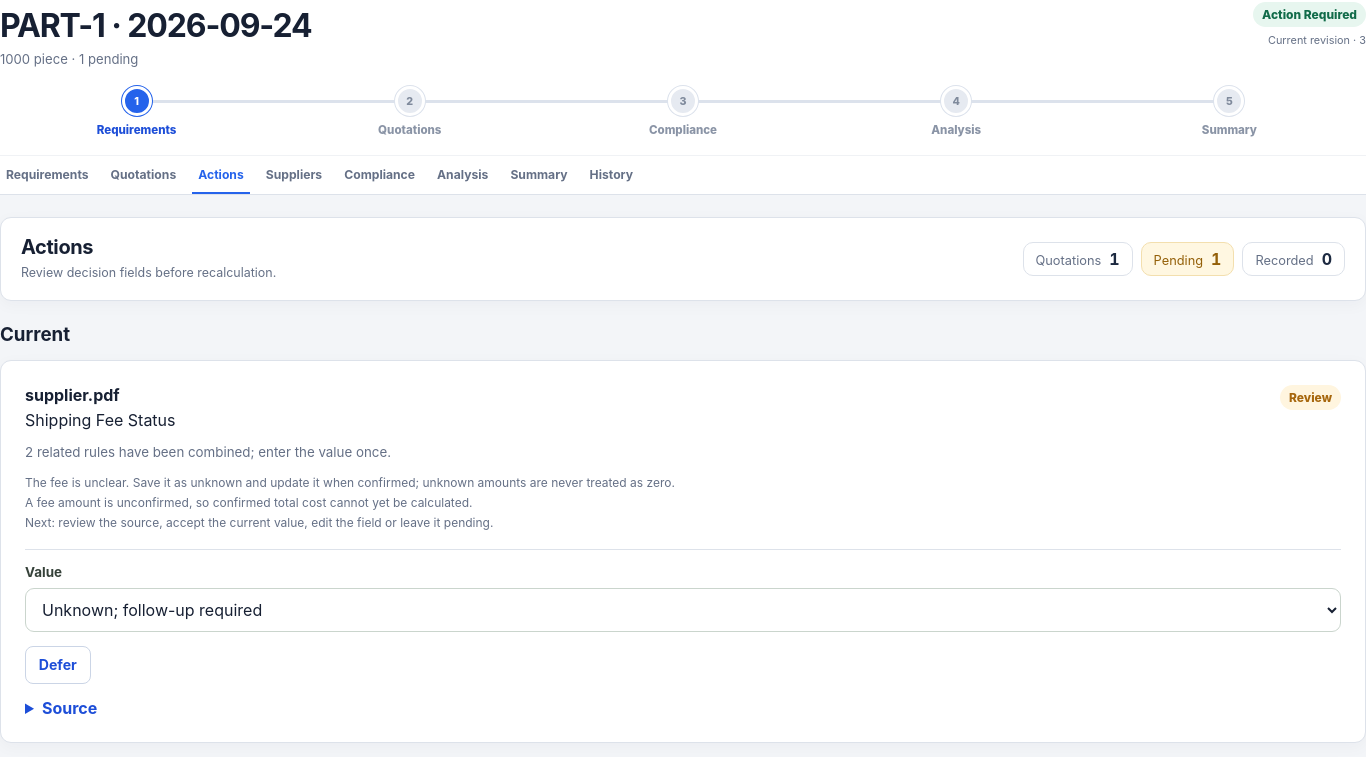
Test: ReviewPage › keeps a deferred field pending and explains an unexpected save failure with a request id
Expected: the dropdown named "Shipping Fee Status value" is shown, [25,588,1341,632]
Click the button "Defer" at (58, 665), box [25,646,91,684]
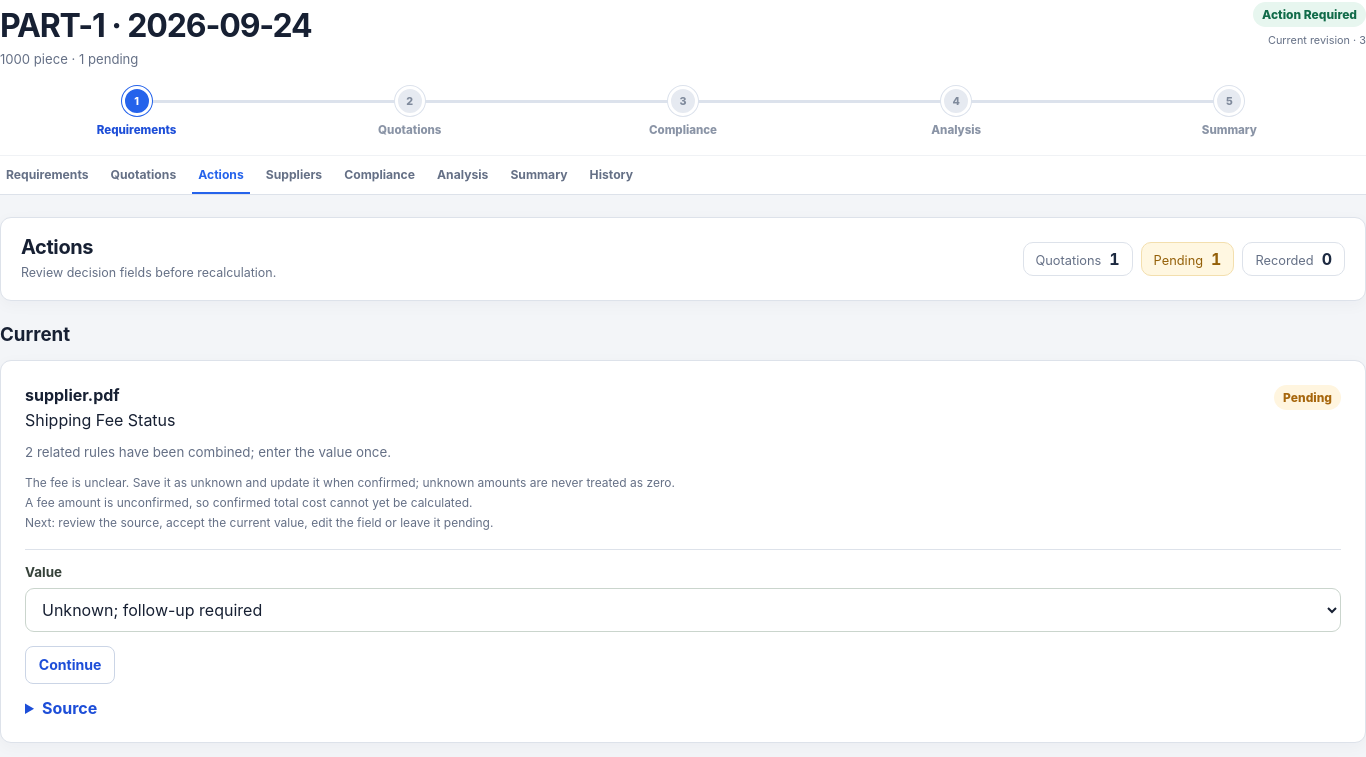
Expected: the text "Pending" in the row of "Recorded" is shown, [1154,253,1203,268]
Click the button "Continue" at (70, 665), box [25,646,115,684]
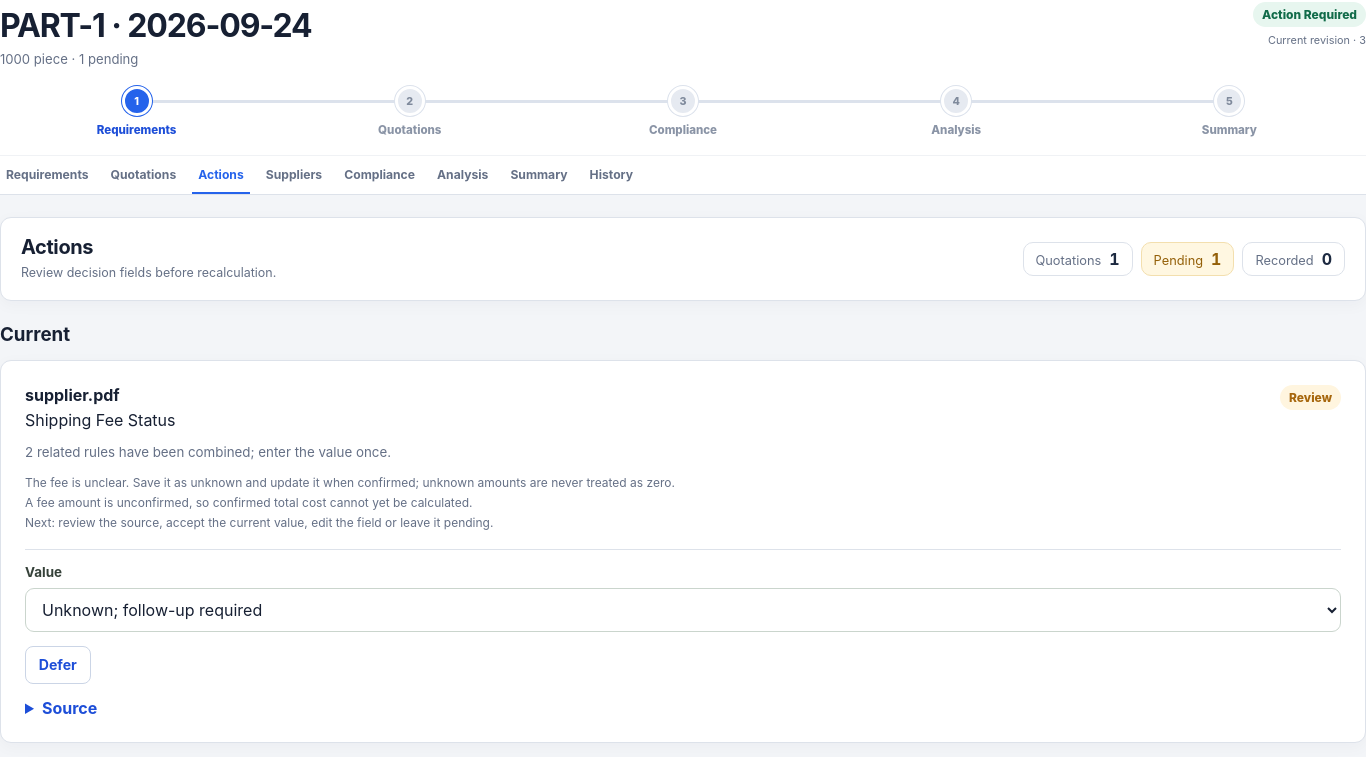
Select "Free" in the dropdown named "Shipping Fee Status value" at (683, 610), box [25,588,1341,632]
(page scrolled)
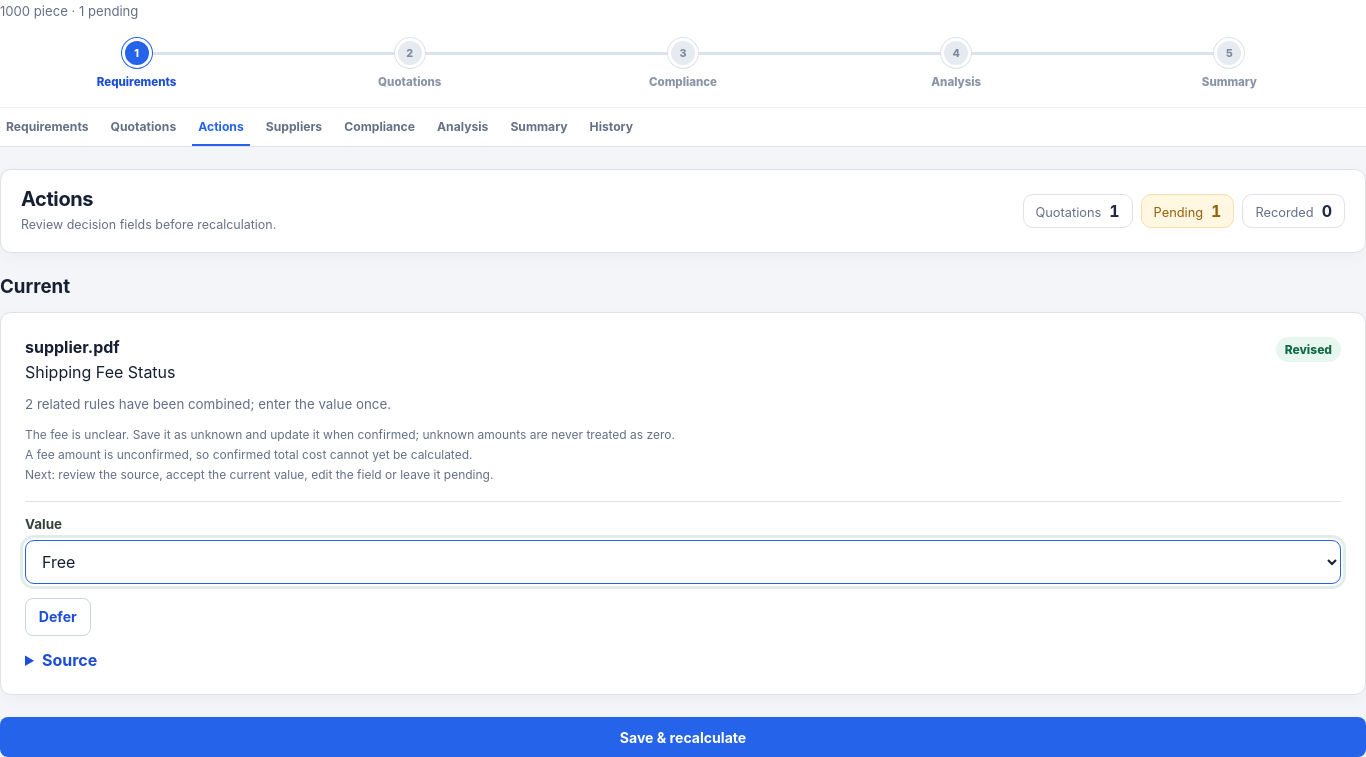
Click the button "Save & recalculate" at (683, 737), box [0,717,1365,756]
(page scrolled)
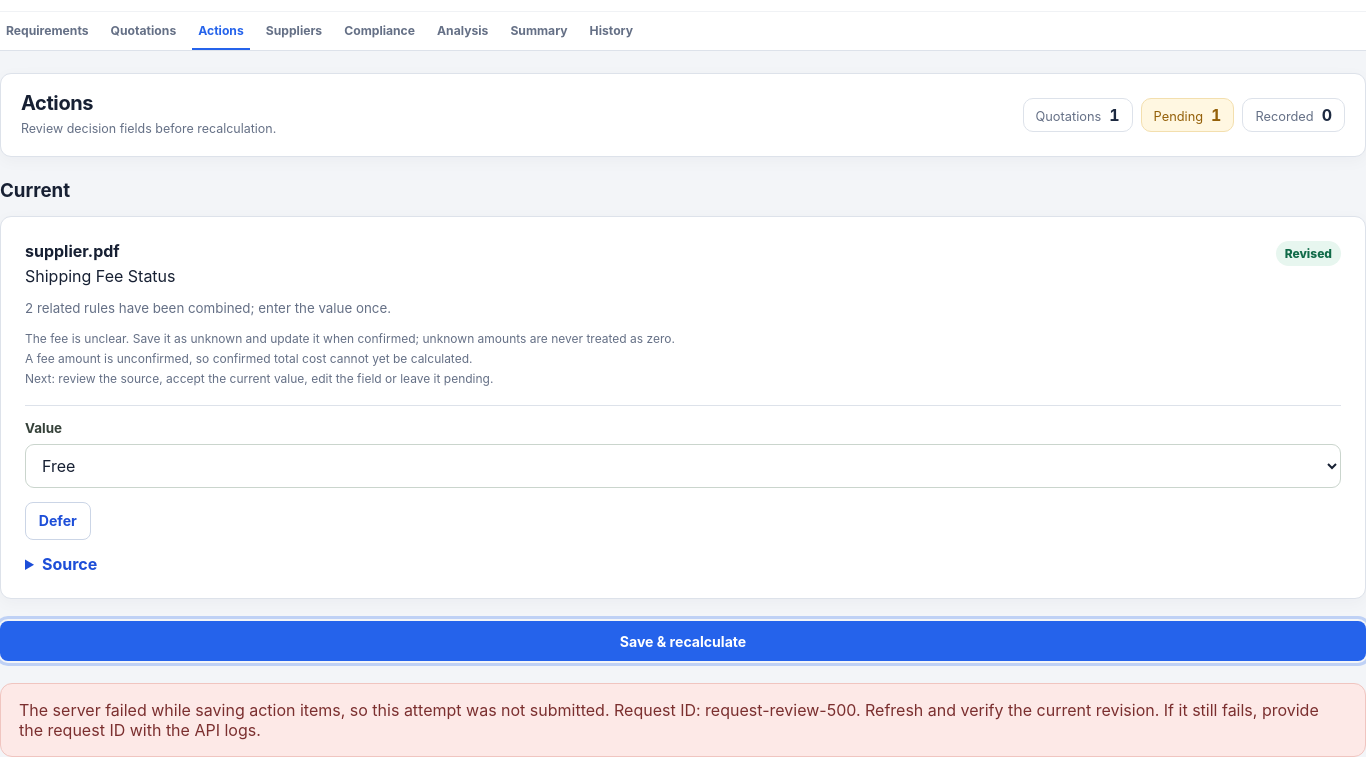
Expected: the message shows "Request ID: request-review-500", [19,700,1319,740]
Expected: the message shows "this attempt was not submitted", [19,700,1319,740]
